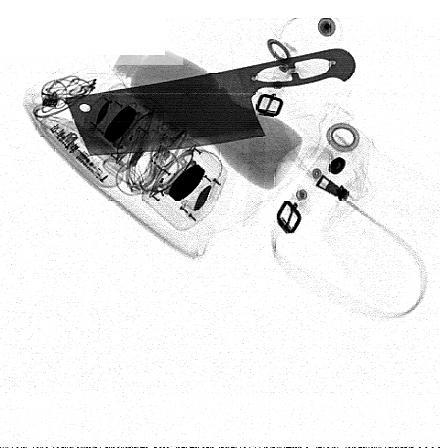Knife: (64, 47, 357, 156)
